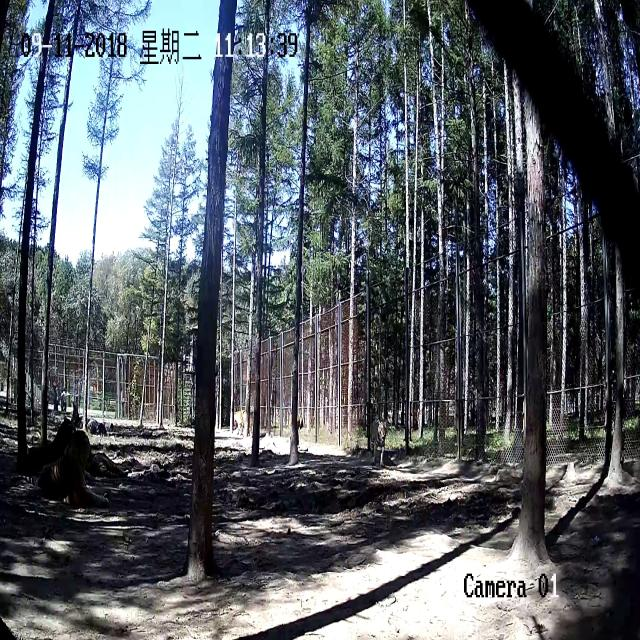Tiger: (29, 424, 122, 524), (367, 412, 389, 466), (232, 402, 252, 437)
